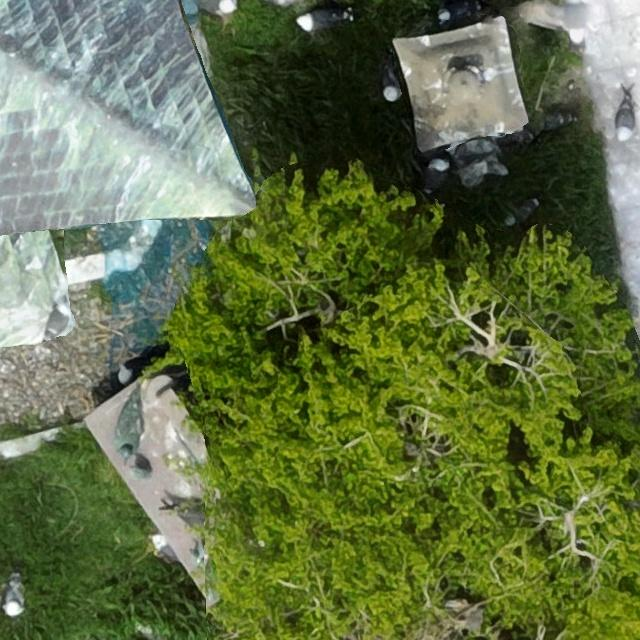umineko: (118, 358, 149, 386), (298, 12, 336, 31), (508, 198, 536, 222), (426, 160, 447, 190), (6, 580, 24, 614), (439, 4, 470, 22), (617, 106, 633, 140), (382, 72, 399, 102), (153, 537, 174, 561)
